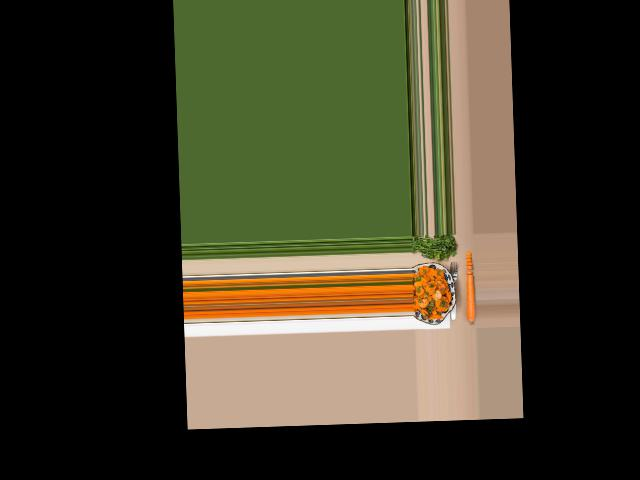carrot: (466, 274, 477, 324)
